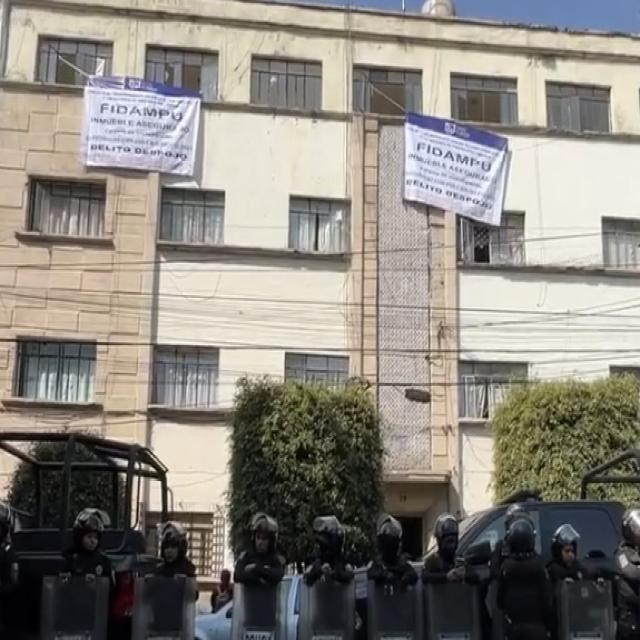stamps: (81, 76, 200, 175), (404, 114, 507, 225)
